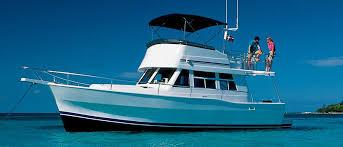Ship: (22, 1, 291, 132)
